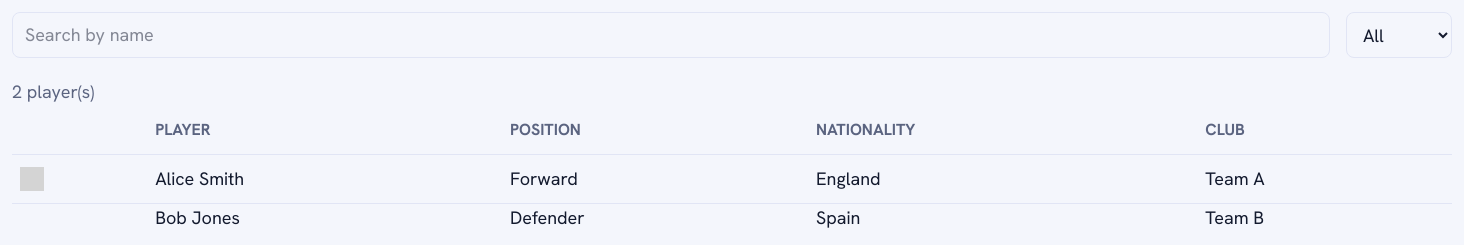
Test: PlayerDirectoryTable › shows a message when no players match
Expected: the text "Alice Smith" is shown, [147,154,502,204]
Type "zzz-no-match" into the field with placeholder "Search by name" at (671, 35), box [12,12,1330,58]
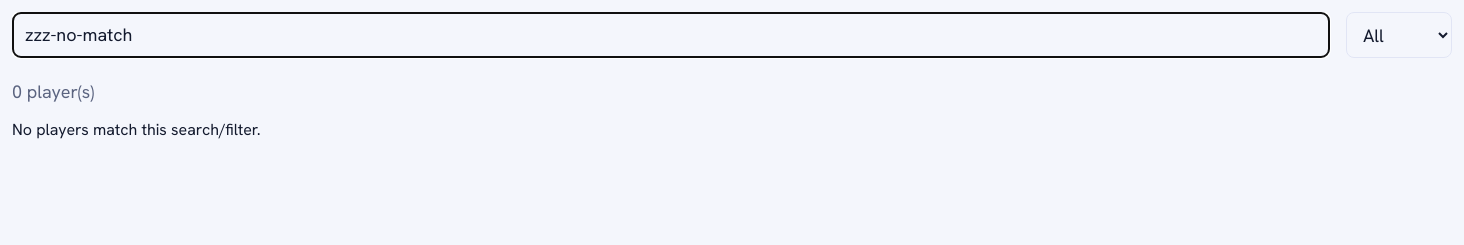
Now the text "No players match this search/filter." is shown, box [12,119,261,140]
